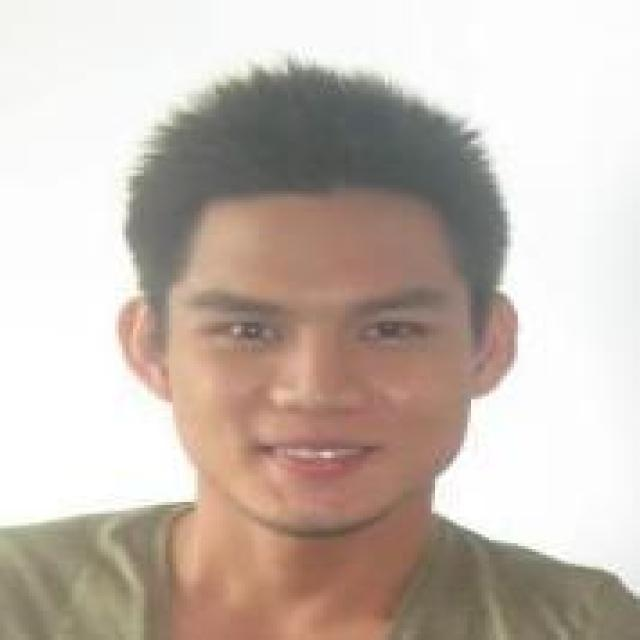bareface: (158, 83, 527, 532)
